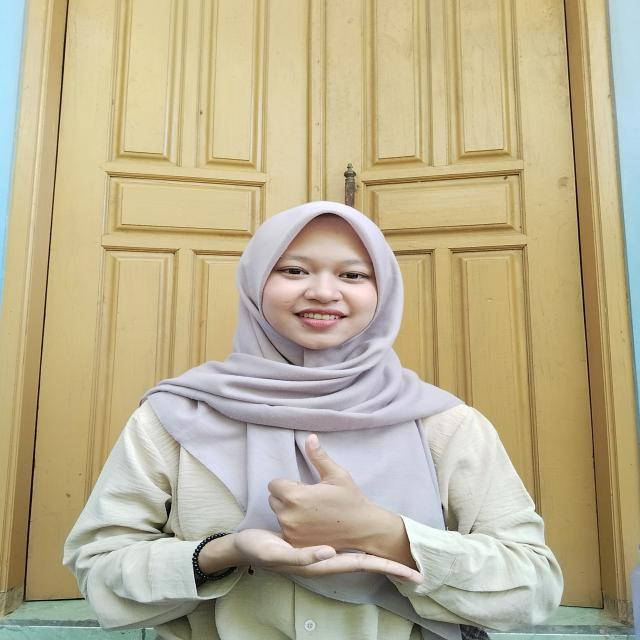cantik: (231, 420, 434, 600)
